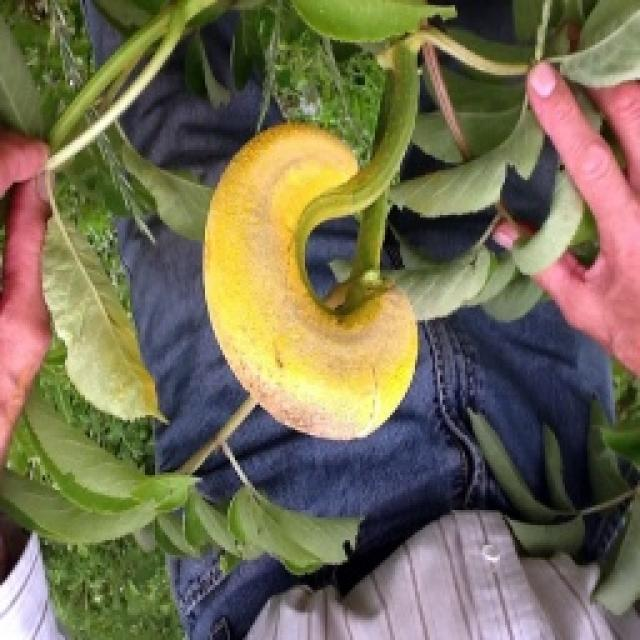Elderberry_rust: (151, 93, 448, 434)
